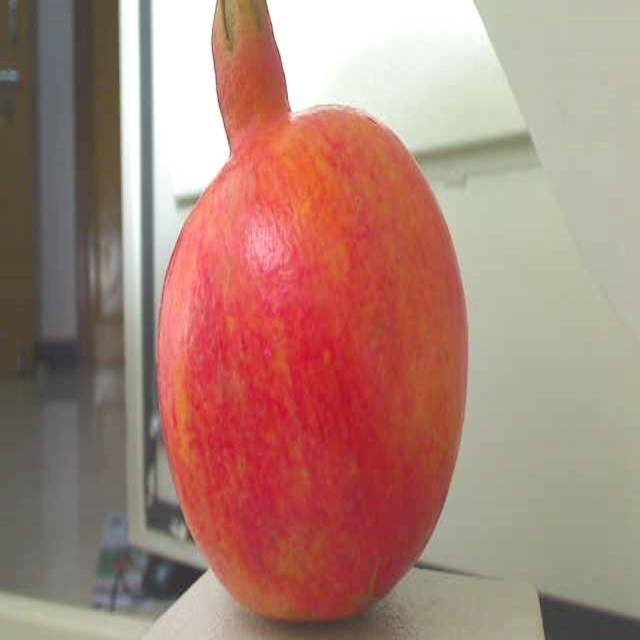pomegranate: (144, 0, 477, 640)
